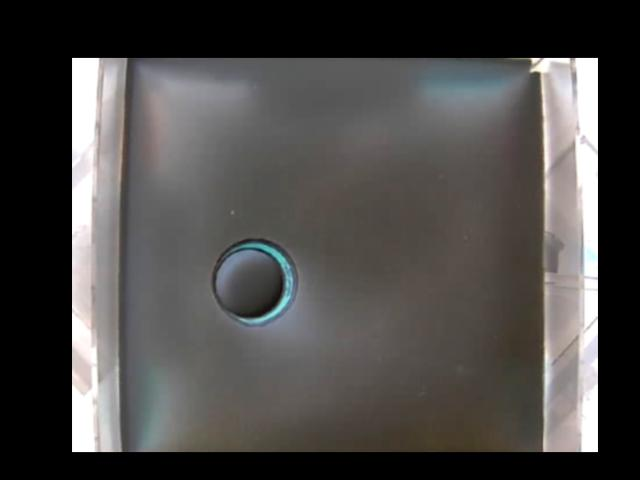Cup: (210, 236, 297, 326)
